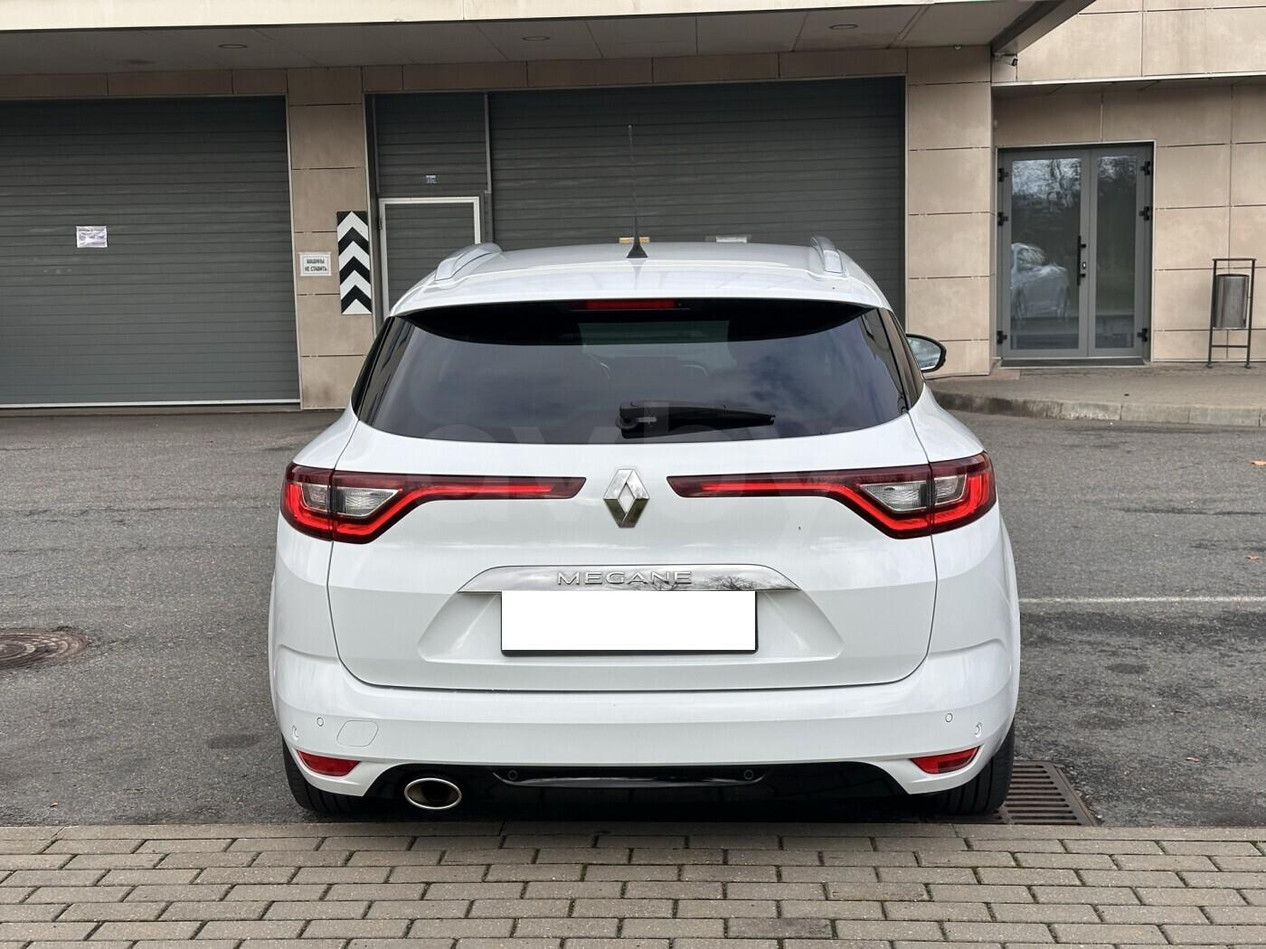Megane_2016-2020: (257, 236, 1043, 822)
